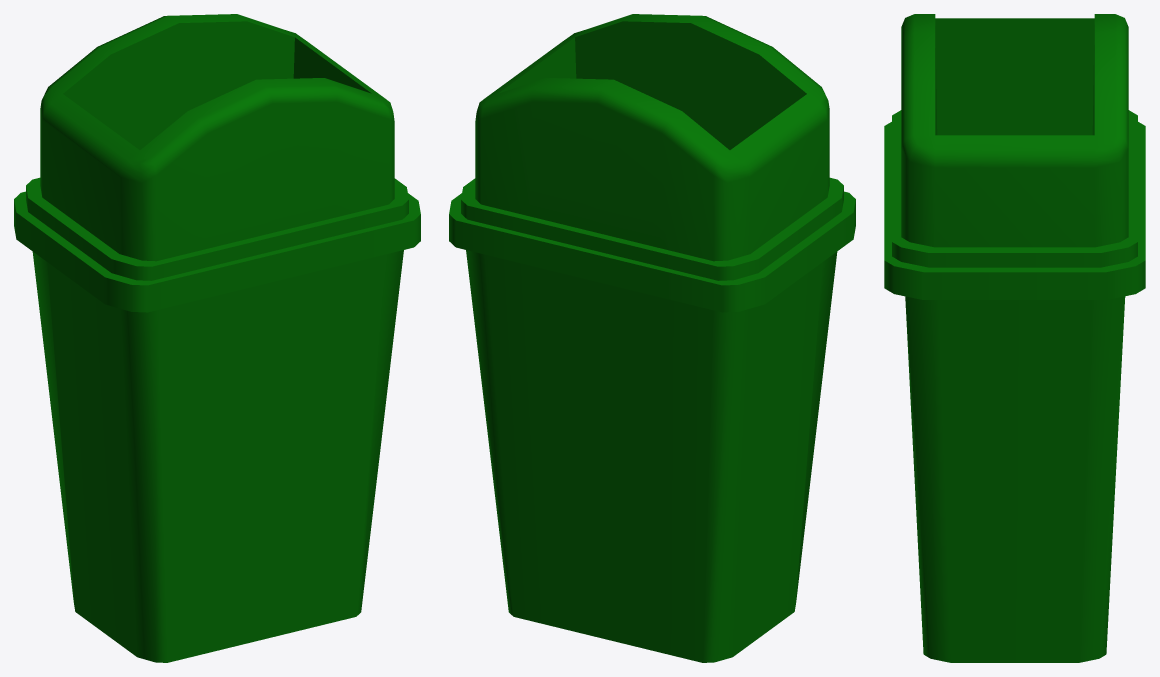
File: TrashBucket.fbx
The picture shows the model from 3 angles, left to right: view 1: azimuth 30°, elevation 25°; view 2: azimuth 150°, elevation 25°; view 3: azimuth 270°, elevation 25°; orthographic projection. The views are drawn at different scales.
Parts seen in each view (by area): view 1: TrashBucket; view 2: TrashBucket; view 3: TrashBucket.
Boxes of the visible parts, bbox=[...] form: TrashBucket: bbox=[14, 14, 420, 662]; TrashBucket: bbox=[449, 14, 855, 662]; TrashBucket: bbox=[884, 14, 1145, 662].
Bounding box in the file's own units: 0.4419 × 0.7487 × 0.3091.
